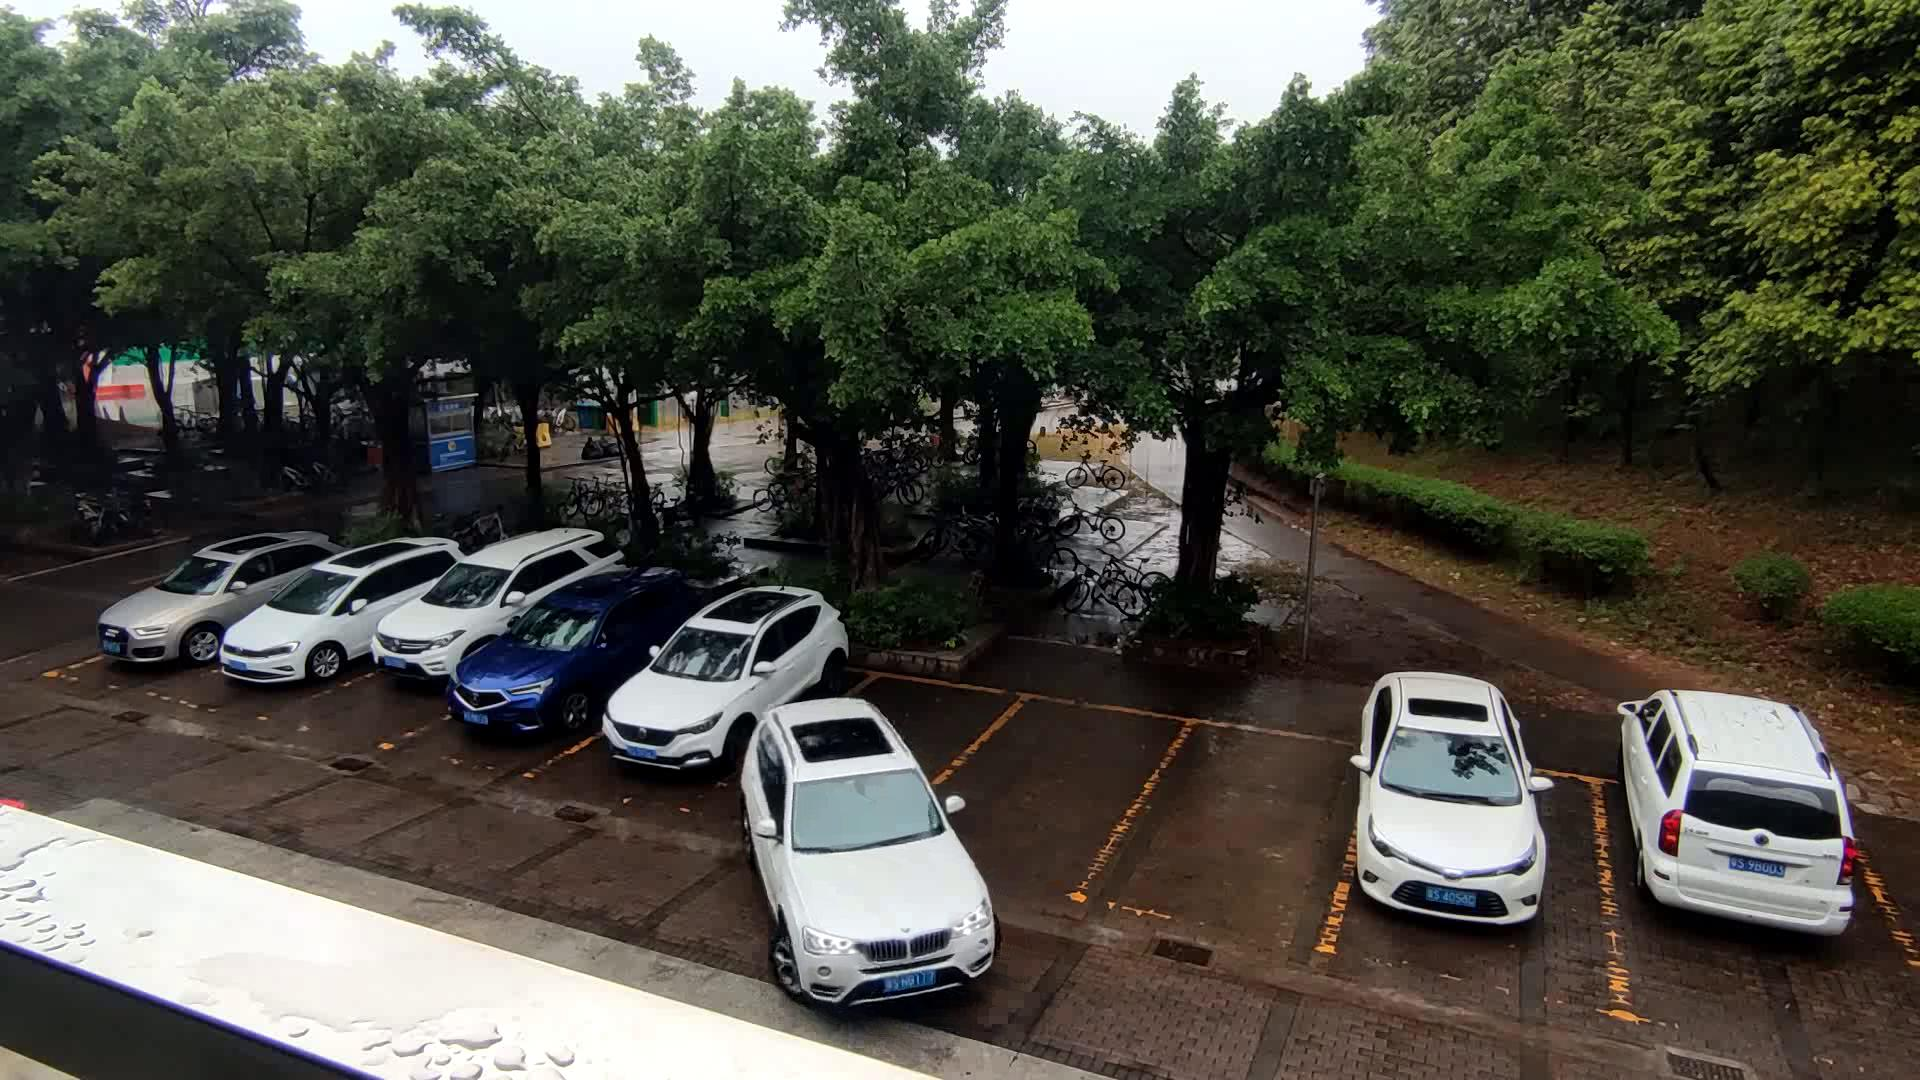space-empty: (897, 684, 1222, 929), (1062, 706, 1360, 973), (744, 645, 1027, 850)
space-occupied: (1297, 735, 1626, 1009), (1590, 768, 1895, 1015)
